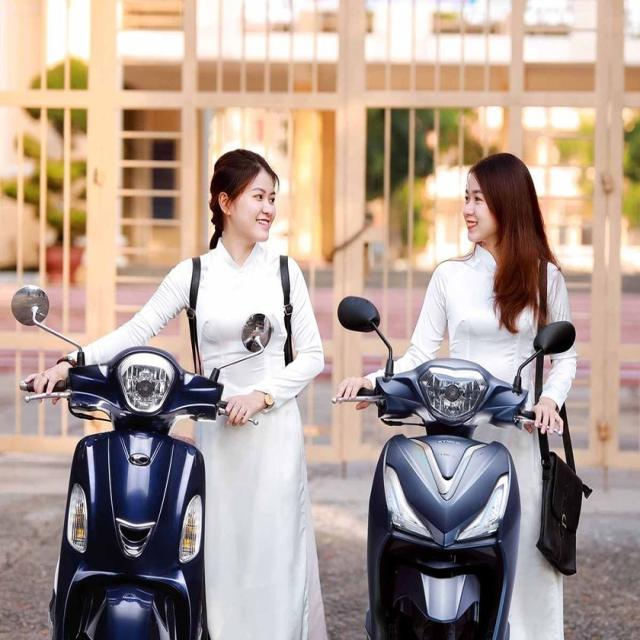Face and Hair: (453, 141, 547, 262), (205, 137, 284, 252)
